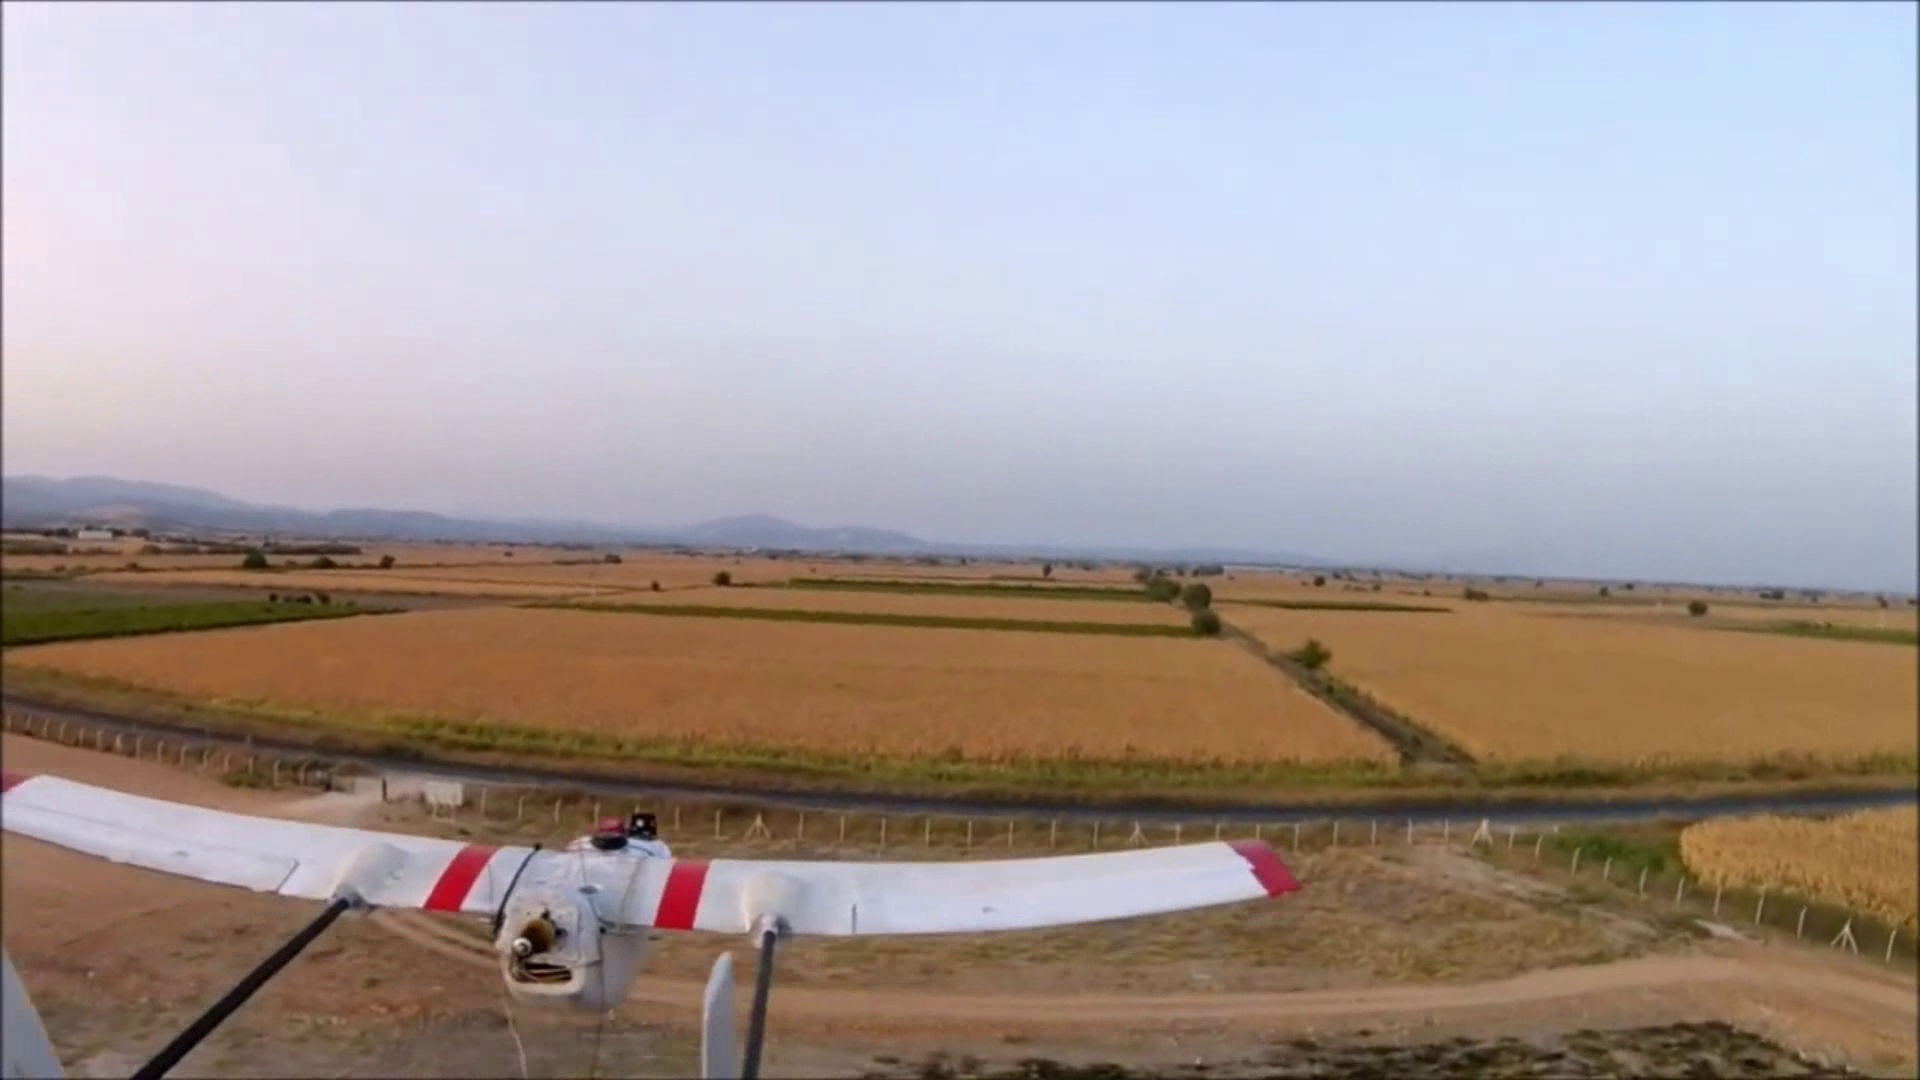airplane: (5, 713, 1303, 1051)
